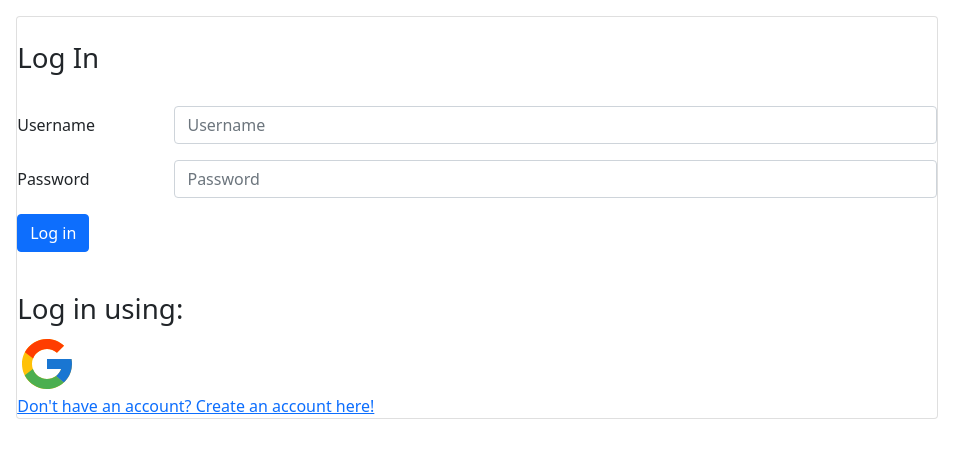
Test case: local account access › shows the missing credentials message for a bad login request
Click the button "Log in": (53, 233) [17,214,89,252]
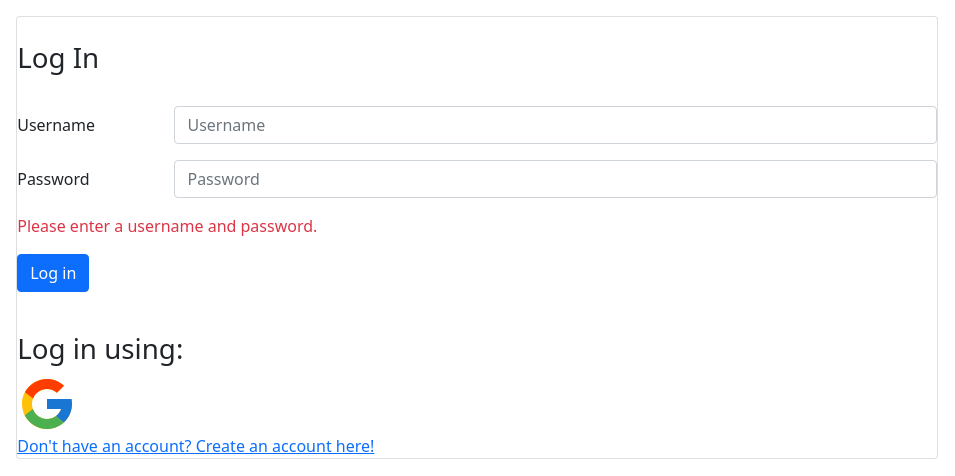
Check: the text "Please enter a username and password." is shown, box [17,215,317,237]
